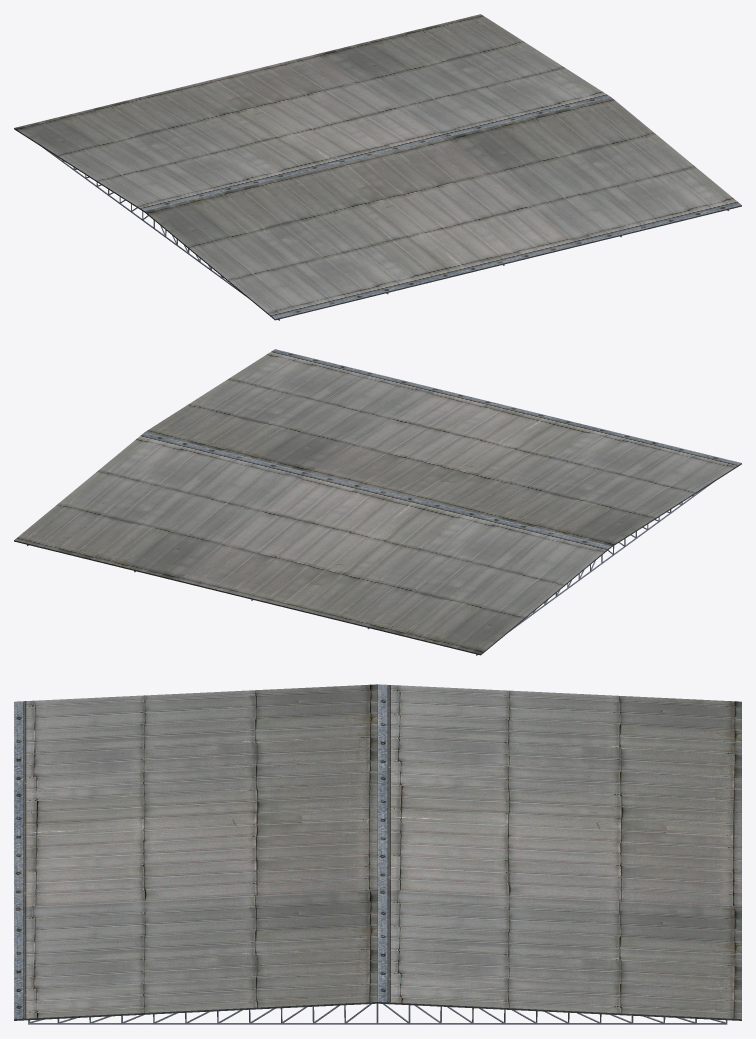
The model's file is WareMedium_Roof.FBX.
3 renders of one model, top to bottom at view 1: azimuth 30°, elevation 25°; view 2: azimuth 150°, elevation 25°; view 3: azimuth 270°, elevation 25°, orthographic. The views are drawn at different scales.
Visible parts, largest first — view 1: WareMedium_Roof, WareMedium_Detail; view 2: WareMedium_Roof, WareMedium_Detail; view 3: WareMedium_Roof, WareMedium_Detail.
Boxes of the visible parts, x1=… form: WareMedium_Roof: x1=14, y1=14, x2=741, y2=320; WareMedium_Detail: x1=42, y1=147, x2=729, y2=320; WareMedium_Roof: x1=14, y1=349, x2=741, y2=655; WareMedium_Detail: x1=27, y1=482, x2=713, y2=655; WareMedium_Roof: x1=14, y1=684, x2=741, y2=1020; WareMedium_Detail: x1=28, y1=1003, x2=727, y2=1024.
Size of the model in its own units: 1532 by 105 by 1484.
